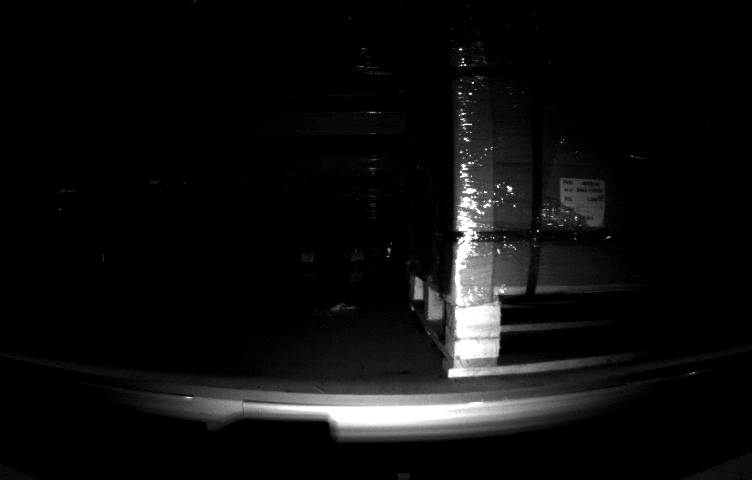True Barcode: (559, 176, 605, 227)
